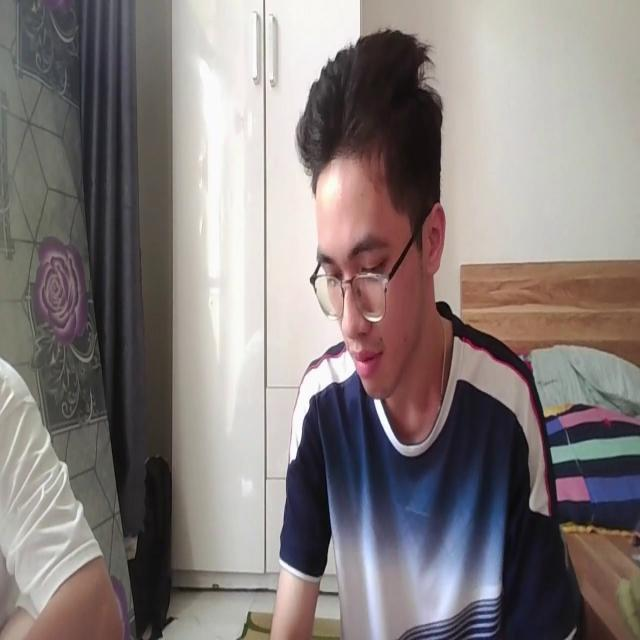student: (268, 22, 577, 640)
